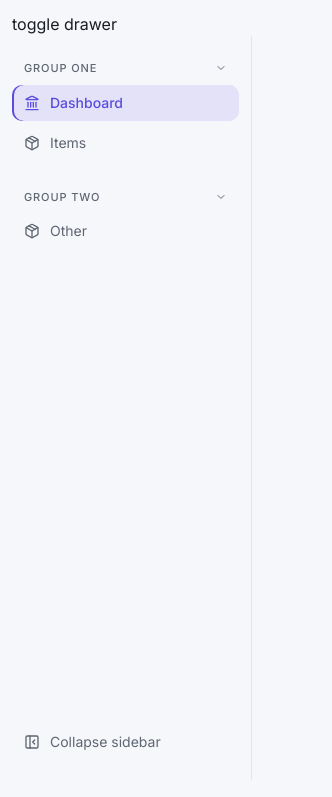
it: AppSidebar › a group heading toggles aria-expanded and hides its items
Check: the link "Other" is shown, box [24, 222, 87, 239]
Click the button "Group two".
click(126, 197)  # box [12, 184, 239, 209]
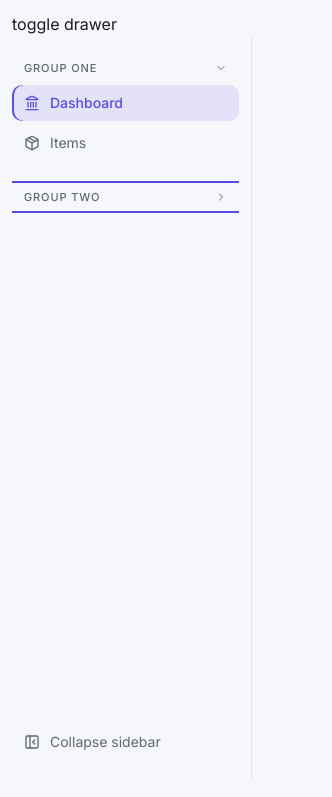
Check: the button "Group two" is collapsed, box [12, 184, 239, 209]
Check: the link "Other" is gone
